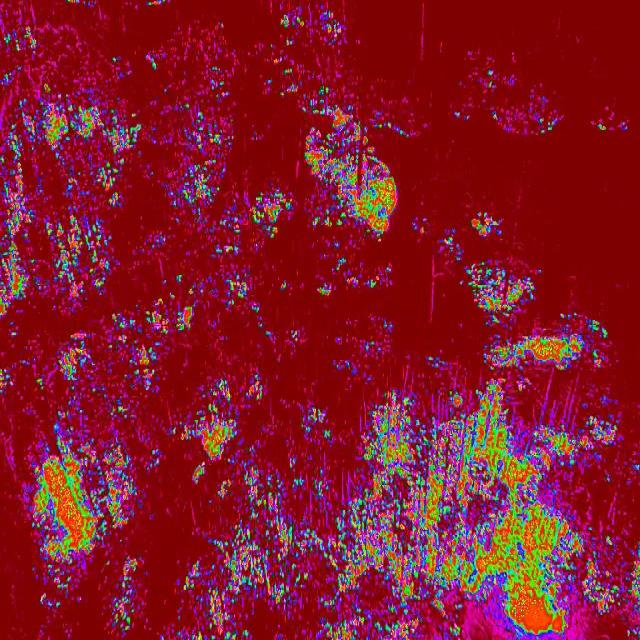fire: (0, 0, 351, 640), (351, 375, 640, 640), (484, 310, 613, 374), (459, 66, 561, 134), (350, 105, 400, 241), (452, 260, 542, 321), (361, 320, 401, 365), (469, 210, 505, 241), (437, 228, 462, 264), (590, 111, 628, 133), (424, 352, 461, 373), (366, 264, 392, 291)
